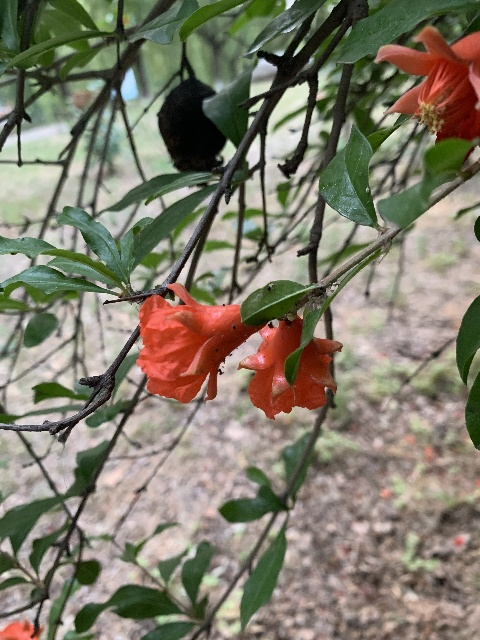flower: (136, 281, 270, 404), (374, 23, 480, 140), (236, 313, 342, 419)
